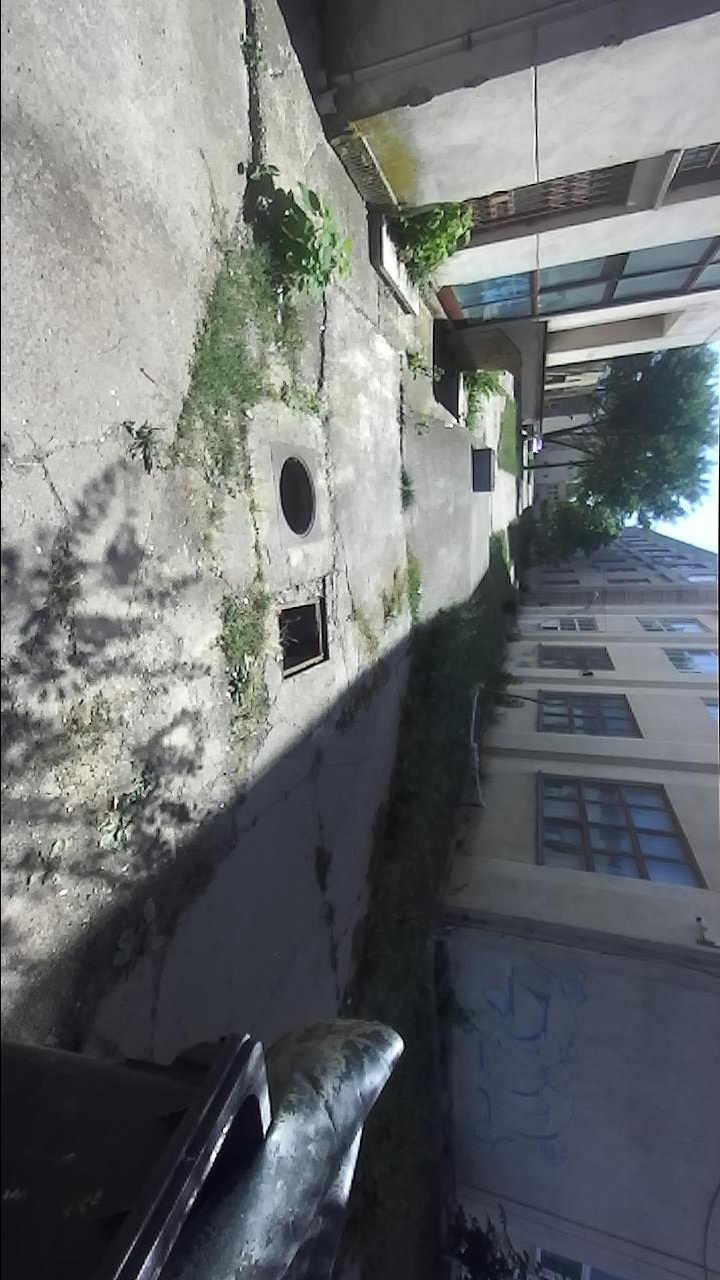drain: (272, 593, 334, 686), (275, 449, 323, 550)
